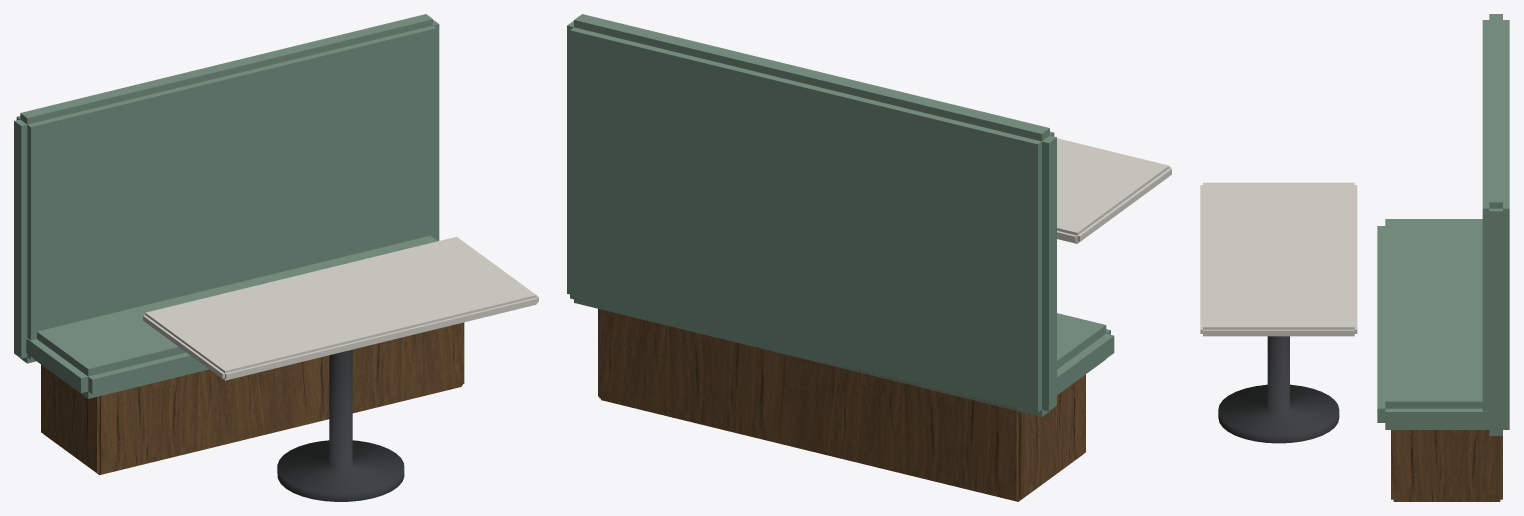
The model's file is fixture_v23_dining_banquette.glb.
3 renders of one model, left to right at view 1: azimuth 30°, elevation 25°; view 2: azimuth 150°, elevation 25°; view 3: azimuth 270°, elevation 25°, orthographic. The views are drawn at different scales.
Parts seen in each view (by area): view 1: fixture_v23_dining_banquette_V23_soft_sage, fixture_v23_dining_banquette_Honed_solid_surface, fixture_v23_dining_banquette_CC0_Oak_veneer, fixture_v23_dining_banquette_Anodised_graphite; view 2: fixture_v23_dining_banquette_V23_soft_sage, fixture_v23_dining_banquette_CC0_Oak_veneer, fixture_v23_dining_banquette_Honed_solid_surface; view 3: fixture_v23_dining_banquette_V23_soft_sage, fixture_v23_dining_banquette_Honed_solid_surface, fixture_v23_dining_banquette_CC0_Oak_veneer, fixture_v23_dining_banquette_Anodised_graphite.
Boxes of the visible parts, x1=… form: fixture_v23_dining_banquette_V23_soft_sage: x1=14, y1=14, x2=439, y2=398; fixture_v23_dining_banquette_Honed_solid_surface: x1=143, y1=236, x2=538, y2=380; fixture_v23_dining_banquette_CC0_Oak_veneer: x1=41, y1=322, x2=464, y2=475; fixture_v23_dining_banquette_Anodised_graphite: x1=277, y1=349, x2=404, y2=501; fixture_v23_dining_banquette_V23_soft_sage: x1=567, y1=14, x2=1114, y2=416; fixture_v23_dining_banquette_CC0_Oak_veneer: x1=598, y1=309, x2=1085, y2=501; fixture_v23_dining_banquette_Honed_solid_surface: x1=1057, y1=138, x2=1171, y2=243; fixture_v23_dining_banquette_V23_soft_sage: x1=1377, y1=14, x2=1509, y2=435; fixture_v23_dining_banquette_Honed_solid_surface: x1=1200, y1=182, x2=1357, y2=336; fixture_v23_dining_banquette_CC0_Oak_veneer: x1=1391, y1=430, x2=1502, y2=501; fixture_v23_dining_banquette_Anodised_graphite: x1=1218, y1=336, x2=1339, y2=443.
Bounding box in the file's own units: 2.05 × 1.52 × 1.38.
4 materials, 1 textured.
